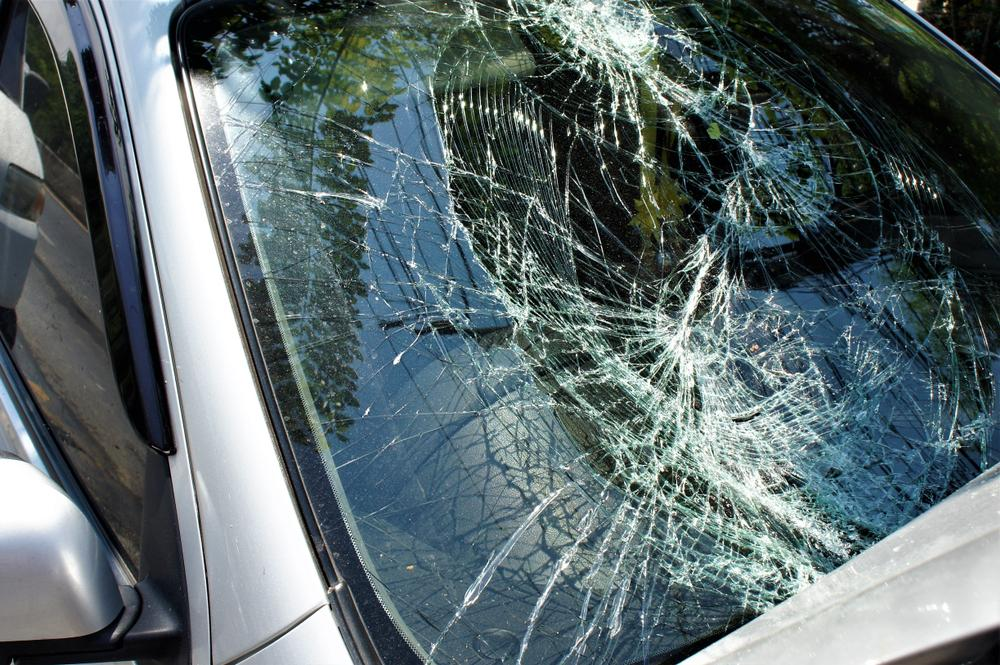glass shatter: (179, 0, 1000, 665)
